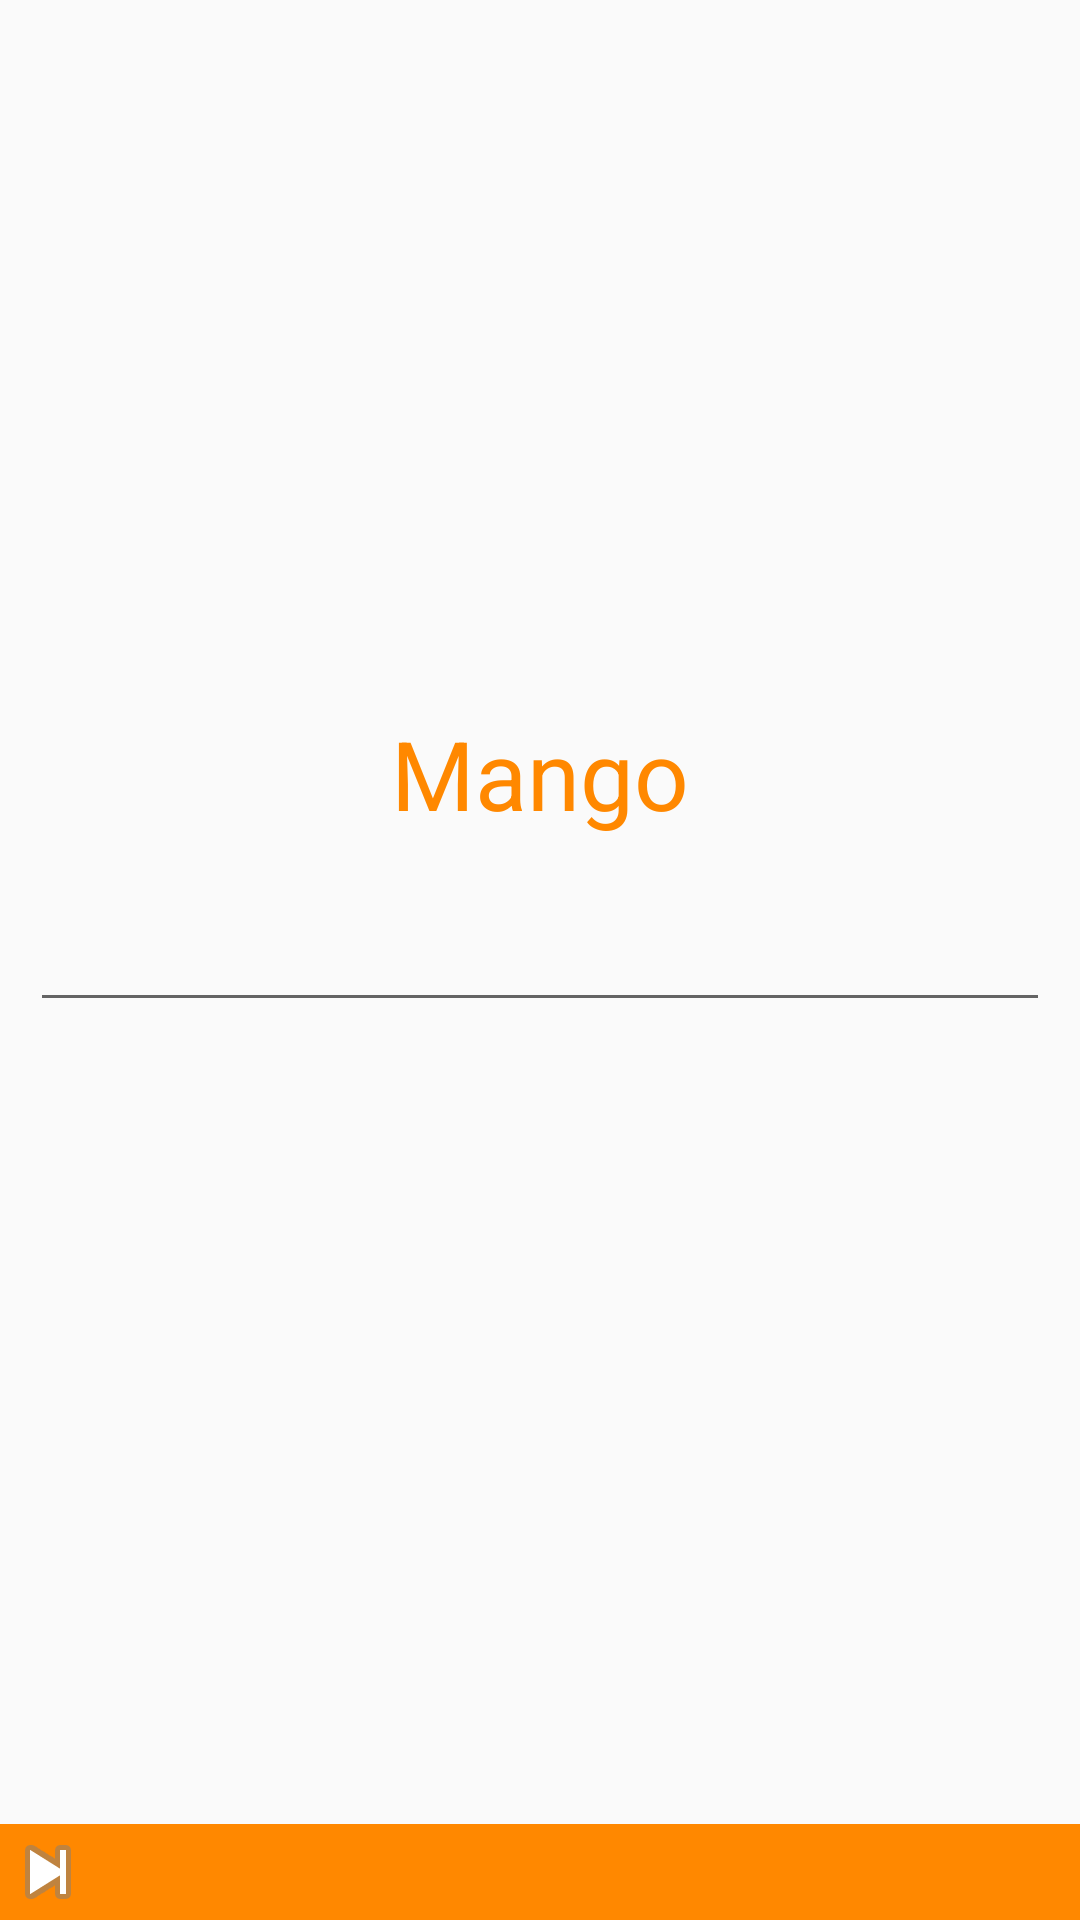

Icon click points for this 1080 × 1920 phone screenshot, format [x,y]:
next: [48,1872]
